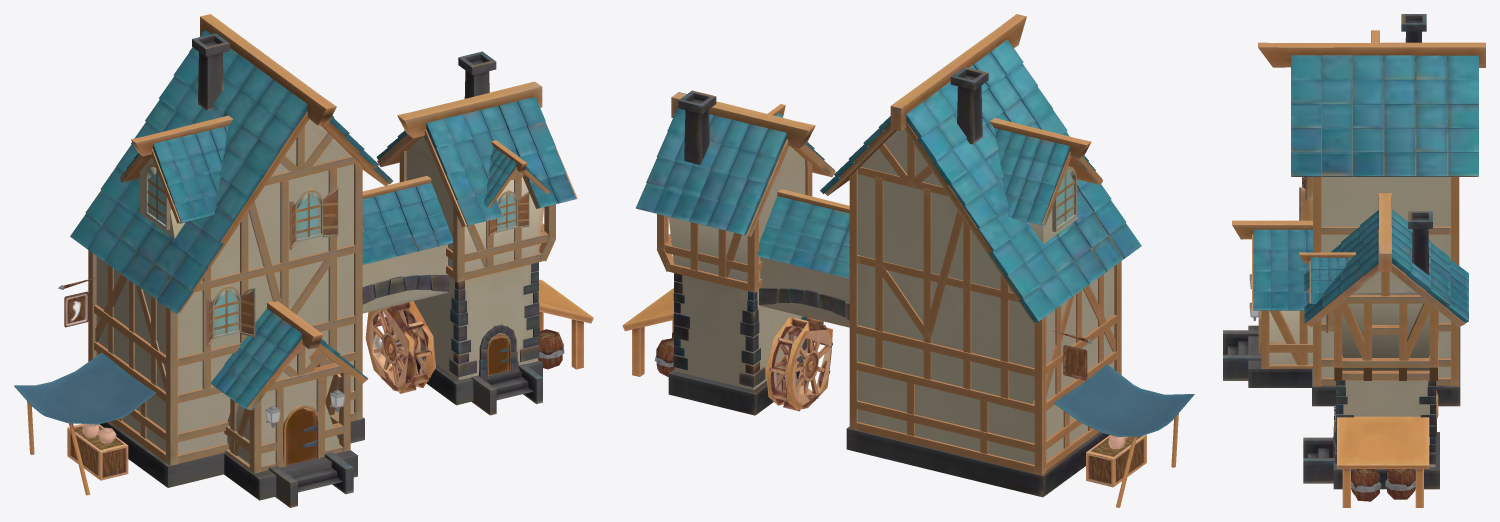
File: BLD_AquHouseA_lod.glb
3 renders of one model, left to right at view 1: azimuth 30°, elevation 25°; view 2: azimuth 150°, elevation 25°; view 3: azimuth 270°, elevation 25°, orthographic. The views are drawn at different scales.
Parts seen in each view (by area): view 1: Roof_long1, LargeHouse_body1, Roof_notched1, BrickBase1, Roof2, Tarp_roof1, Roof3, Roof4, Water_Mill1, Bridge_body1, Tower_top1, Foundation1 (+40 smaller); view 2: LargeHouse_body1, Roof_long1, Roof_notched1, BrickBase1, Roof2, Tarp_roof1, Roof4, Foundation1, Water_Mill1, Bridge_body1, Tower_top1, Foundation3 (+23 smaller); view 3: Roof_long1, Roof_notched1, LargeHouse_body1, Side_Roof1, Roof3, BrickBase1, Tower_top1, Foundation2, Roof5, Stairs1, Stairs2, Wood58 (+23 smaller).
Boxes of the visible parts, x1,y1,x2,y2 form: Roof_long1: (70, 14, 392, 313); LargeHouse_body1: (96, 119, 353, 454); Roof_notched1: (376, 81, 577, 226); BrickBase1: (403, 262, 539, 380); Roof2: (119, 115, 232, 223); Tarp_roof1: (14, 352, 155, 495); Roof3: (211, 301, 368, 410); Roof4: (362, 176, 452, 264); Water_Mill1: (365, 301, 435, 393); Bridge_body1: (362, 244, 449, 313); Tower_top1: (406, 136, 544, 271); Foundation1: (100, 417, 364, 487); LargeHouse_body1: (858, 129, 1114, 464); Roof_long1: (820, 14, 1141, 322); Roof_notched1: (636, 92, 835, 236); BrickBase1: (673, 273, 807, 390); Roof2: (990, 118, 1102, 225); Tarp_roof1: (1053, 364, 1194, 507); Roof4: (757, 189, 849, 278); Foundation1: (846, 426, 1109, 497); Water_Mill1: (765, 317, 832, 411); Bridge_body1: (759, 257, 849, 327); Tower_top1: (668, 146, 805, 281); Foundation3: (668, 356, 803, 415); Roof_long1: (1258, 42, 1485, 176); Roof_notched1: (1304, 193, 1468, 327); LargeHouse_body1: (1321, 177, 1450, 377); Side_Roof1: (1337, 416, 1429, 507); Roof3: (1232, 220, 1312, 310); BrickBase1: (1335, 380, 1436, 467); Tower_top1: (1342, 272, 1429, 370); Foundation2: (1248, 325, 1311, 387); Roof5: (1299, 252, 1355, 303); Stairs1: (1223, 330, 1261, 380); Stairs2: (1303, 437, 1334, 483); Wood58: (1451, 177, 1459, 386).
Bounding box in the file's own units: 2.5 × 1.75 × 1.2.
Materials: 2 (2 with a texture image).
